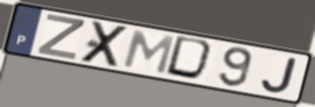9: (217, 46, 254, 88)
D: (163, 34, 219, 83)
J: (260, 55, 300, 95)
M: (120, 29, 177, 77)
X: (77, 20, 132, 69)
Z: (35, 13, 87, 62)
